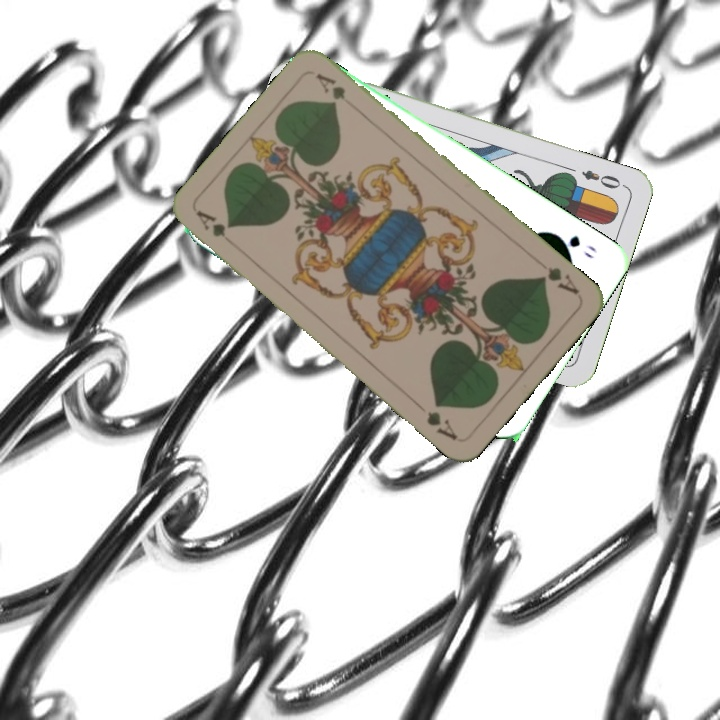EO: (577, 165, 623, 192)
GA: (192, 206, 241, 251), (534, 256, 582, 298)
GO: (549, 229, 599, 262)
